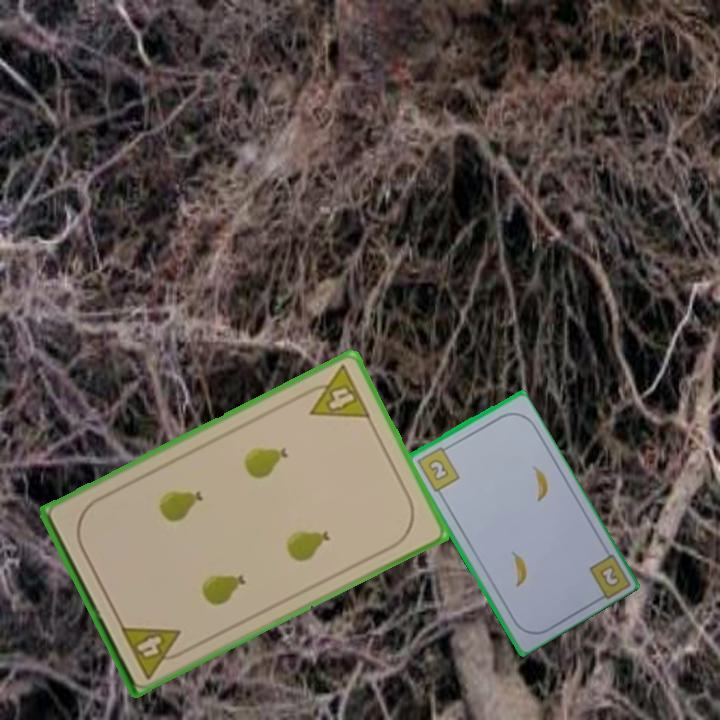2b: (413, 442, 462, 494), (596, 561, 623, 590)
4p: (297, 361, 374, 422), (117, 621, 191, 682)
